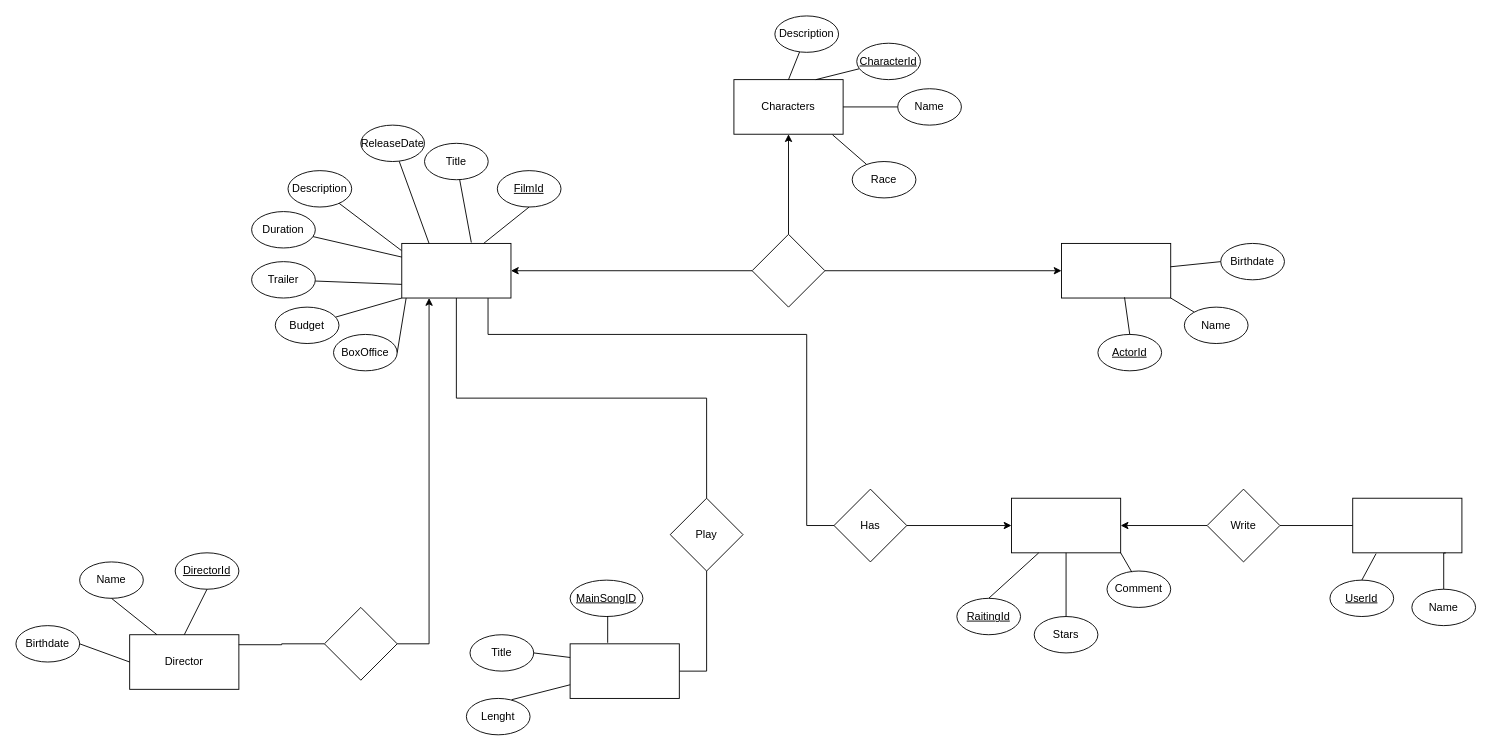
The diagram is 1491 pixels wide and 751 high, and some of its shapes have lost their labels. Here are the shapes that lost their labels. From the top down, the box of each, then its label:
(401, 243, 511, 298): Film
(751, 233, 825, 307): Casting
(1061, 243, 1171, 298): Actor
(1011, 497, 1121, 553): Rating
(1352, 497, 1462, 553): User
(324, 607, 397, 680): Directed
(569, 643, 679, 698): MainSong
